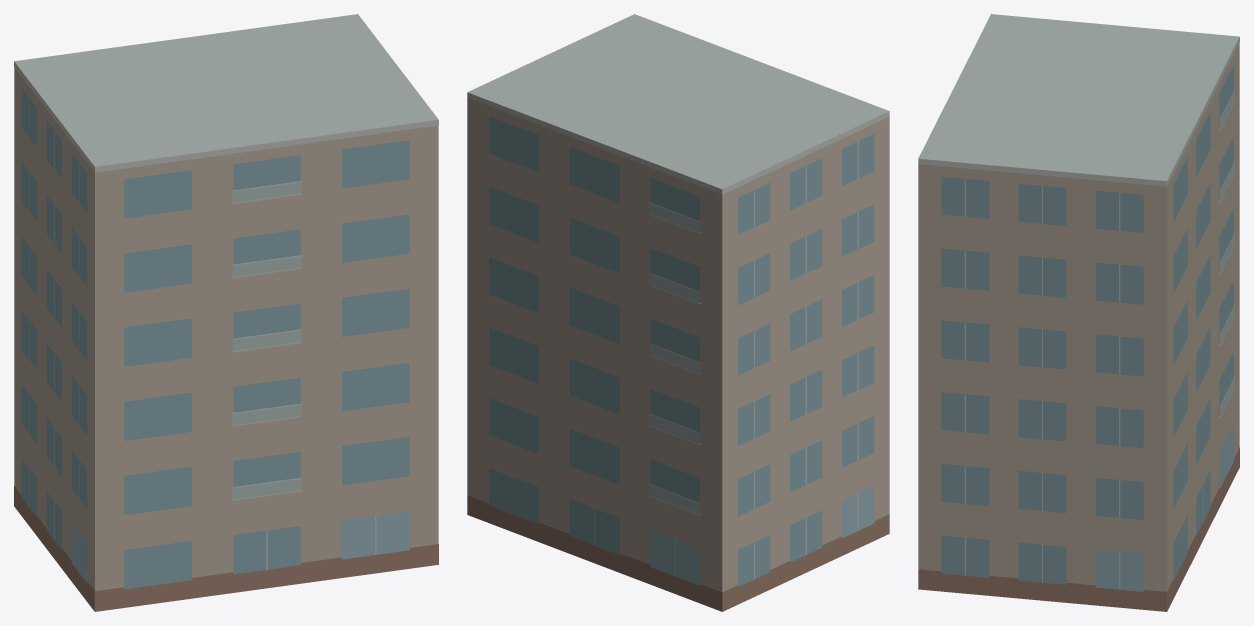
The model's file is survey-upis-32580496.glb.
The picture shows the model from 3 angles, left to right: view 1: azimuth 30°, elevation 25°; view 2: azimuth 150°, elevation 25°; view 3: azimuth 270°, elevation 25°; orthographic projection. The views are drawn at different scales.
Parts seen in each view (by area): view 1: survey-upis-32580496.tmp; view 2: survey-upis-32580496.tmp; view 3: survey-upis-32580496.tmp.
Boxes of the visible parts, x1,y1,x2,y2 form: survey-upis-32580496.tmp: (14,14,438,611); survey-upis-32580496.tmp: (467,14,889,611); survey-upis-32580496.tmp: (918,14,1239,611).
Size of the model in its own units: 15.75 by 18.9 by 12.8.
